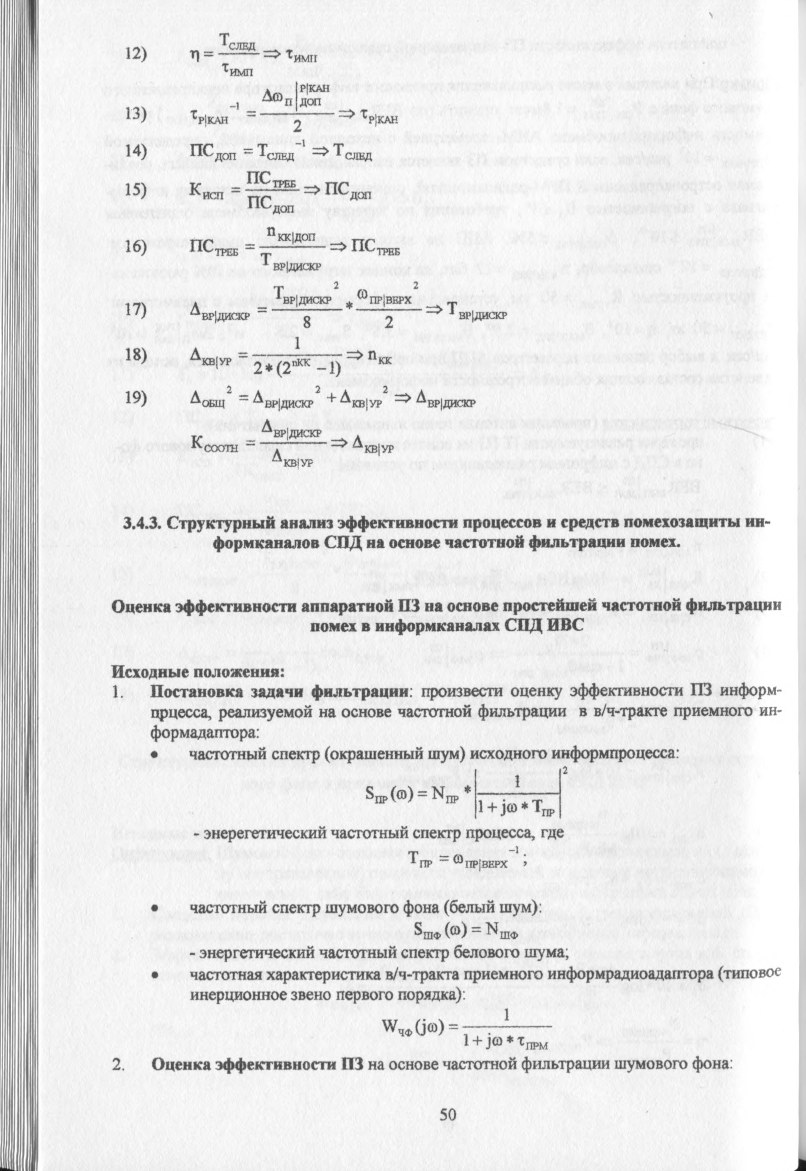K.исп: (184, 177, 225, 204)
K.соотн: (187, 432, 237, 456)
T.вр.дискр: (268, 282, 335, 306), (258, 251, 322, 274)
T.пр: (404, 846, 432, 870)
T.след: (216, 26, 258, 51), (255, 138, 298, 162)
n.кк: (288, 358, 311, 367)
n.кк.доп: (265, 222, 318, 241)
Δ.вр.дискр: (182, 296, 251, 323), (253, 416, 328, 439), (249, 387, 314, 410)
Δ.кв.ур: (335, 386, 383, 410), (185, 346, 232, 369), (271, 448, 314, 471)
Δ.общ: (189, 386, 227, 410)
Δω.п.р.кан.доп: (259, 77, 335, 110)
η: (186, 44, 201, 65)
τ.имп: (218, 61, 258, 77)
τ.р.кан: (184, 105, 231, 128)
ω.пр.верх: (449, 850, 507, 872), (357, 285, 412, 306)
ПС.доп: (186, 138, 240, 163), (245, 194, 297, 212)
ПС.треб: (187, 230, 241, 259), (245, 169, 300, 186)
